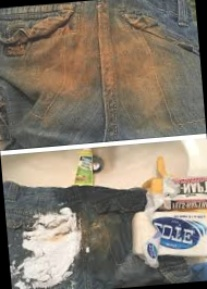earth: (41, 24, 114, 94), (112, 25, 161, 114)
